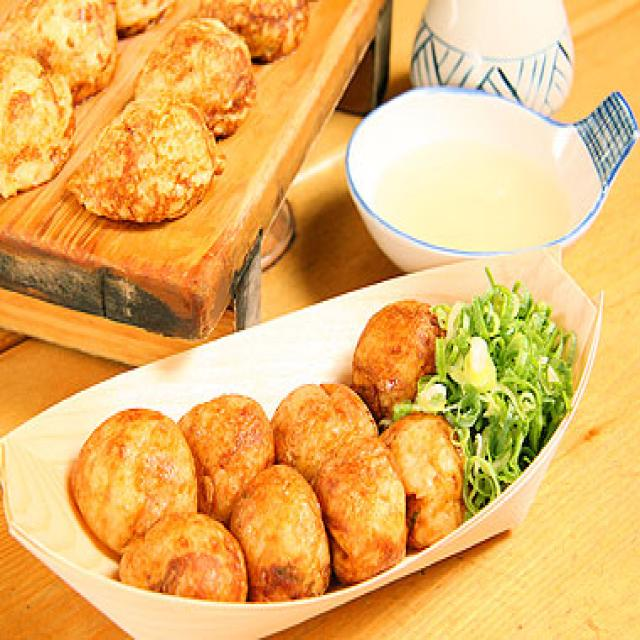炸货点心: (59, 285, 470, 613)
